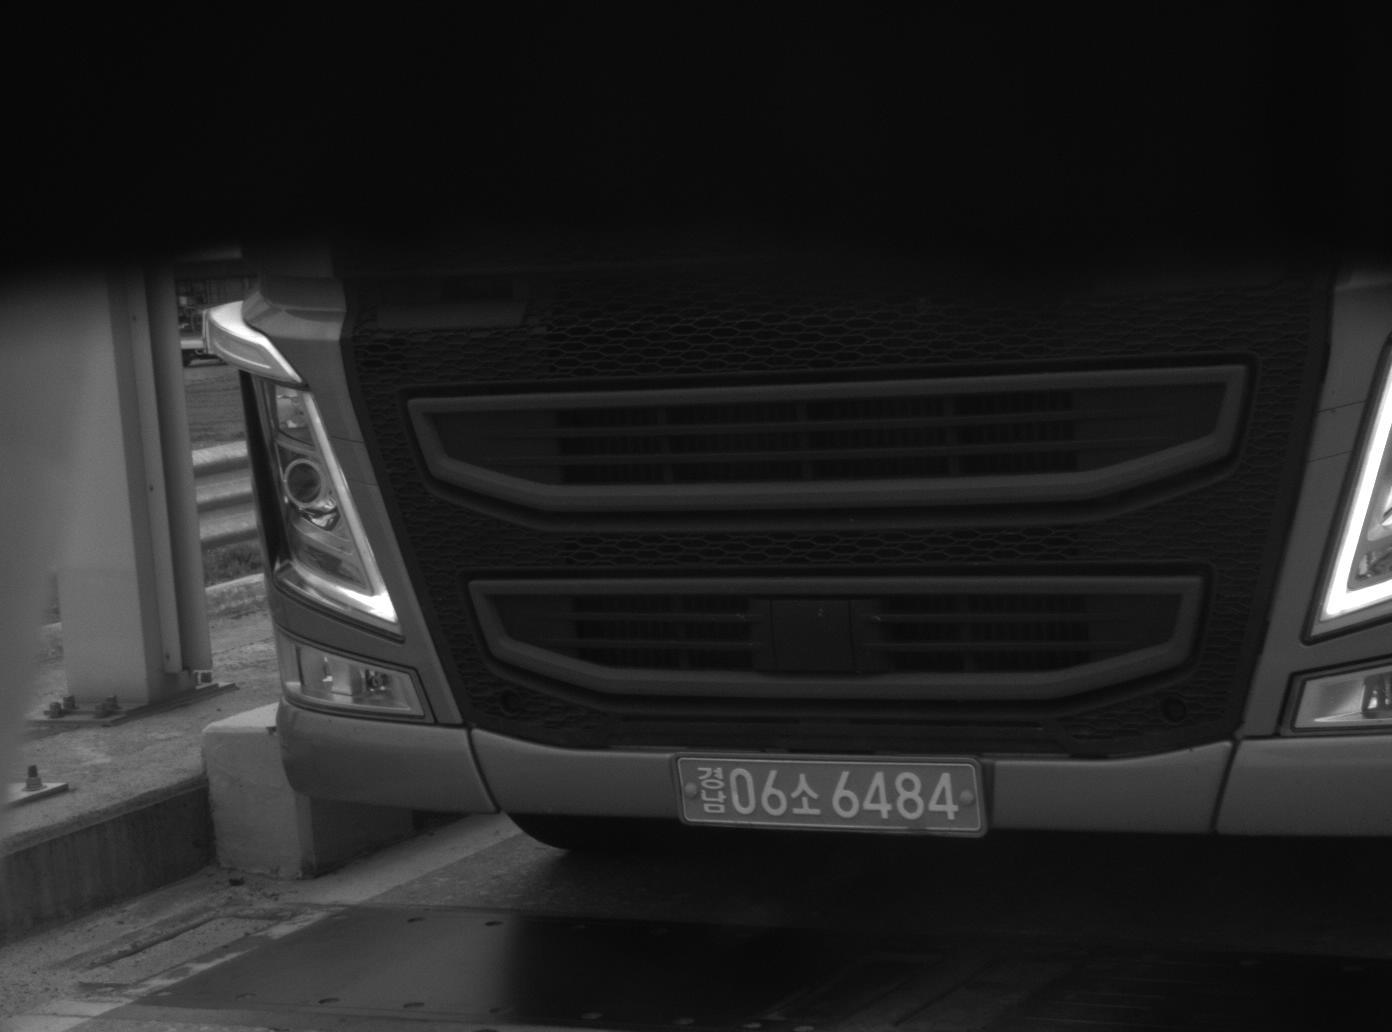car: (192, 220, 1386, 882)
plate: (673, 753, 989, 835)
